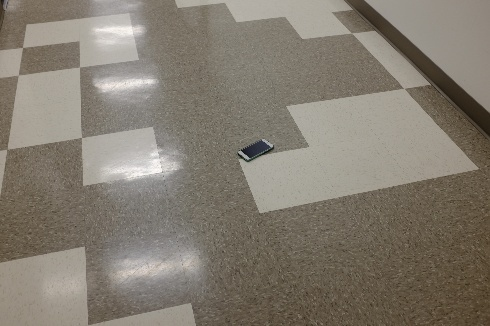phone: (231, 133, 280, 165)
